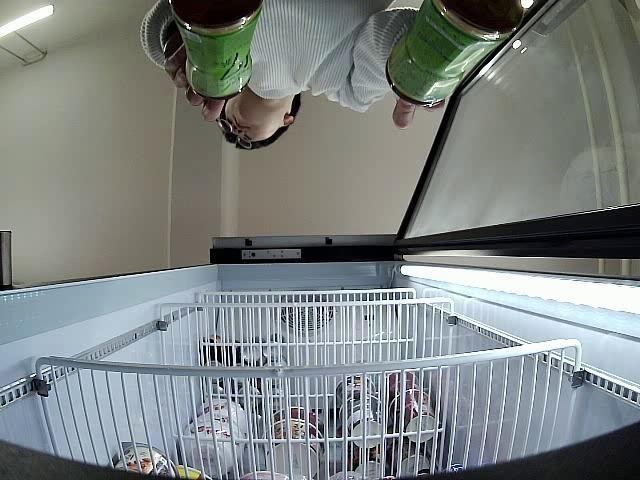19_17cha: (386, 0, 522, 109), (170, 0, 264, 101)
